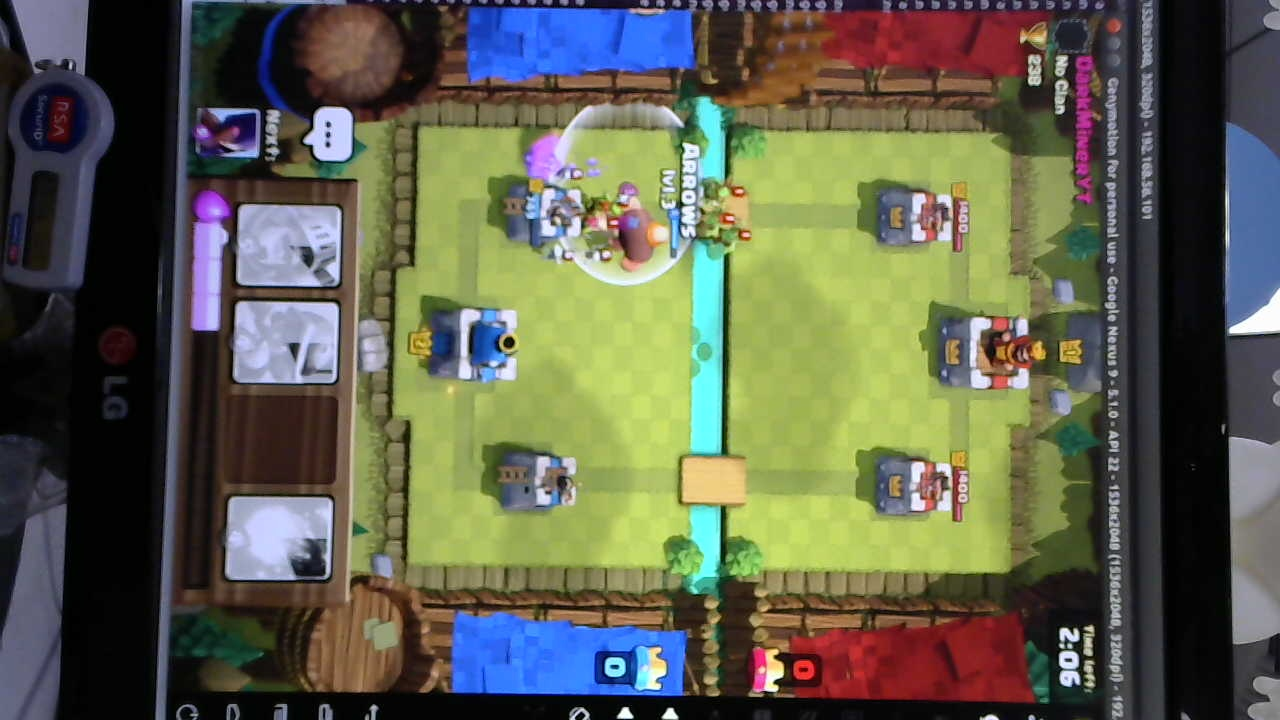arena: (496, 453, 582, 512), (500, 184, 583, 245)
earena: (873, 185, 956, 248), (879, 454, 955, 522)
eking: (932, 312, 1041, 394)
giant: (606, 190, 668, 278)
goblin: (580, 192, 623, 260)
king: (440, 307, 524, 384)
skeleton: (530, 246, 603, 267), (544, 160, 587, 187)
speargoblins: (690, 176, 751, 264)
